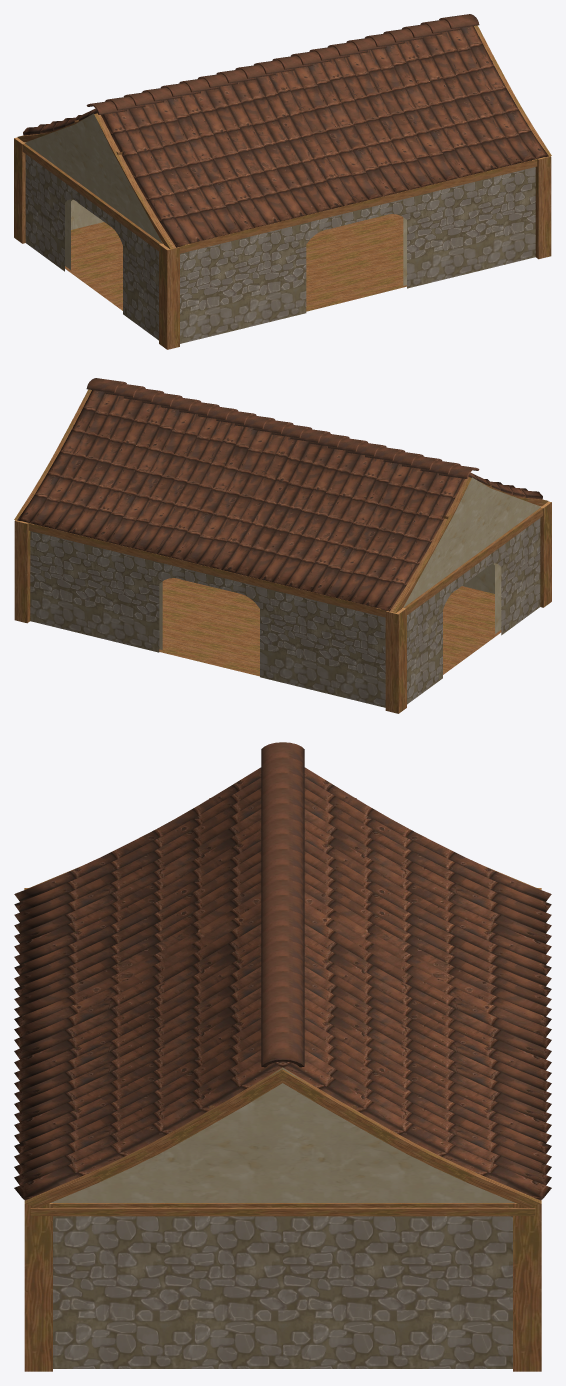
Rendered from Manufacturing.glb.
3 views of the same model, one above another, from view 1: azimuth 30°, elevation 25°; view 2: azimuth 150°, elevation 25°; view 3: azimuth 270°, elevation 25° (orthographic). The views are drawn at different scales.
Parts seen in each view (by area): view 1: Roof, Walls, Floor; view 2: Roof, Walls, Floor; view 3: Roof, Walls.
Part boxes in pixels (bbox=[...]): Roof: bbox=[17, 14, 551, 248]; Walls: bbox=[14, 137, 551, 349]; Floor: bbox=[65, 214, 406, 310]; Roof: bbox=[14, 378, 548, 612]; Walls: bbox=[14, 501, 551, 713]; Floor: bbox=[159, 578, 501, 675]; Roof: bbox=[14, 742, 551, 1215]; Walls: bbox=[24, 888, 541, 1371].
Size of the model in its own units: 12.65 by 5.92 by 9.08.
7 materials, 7 textured.
